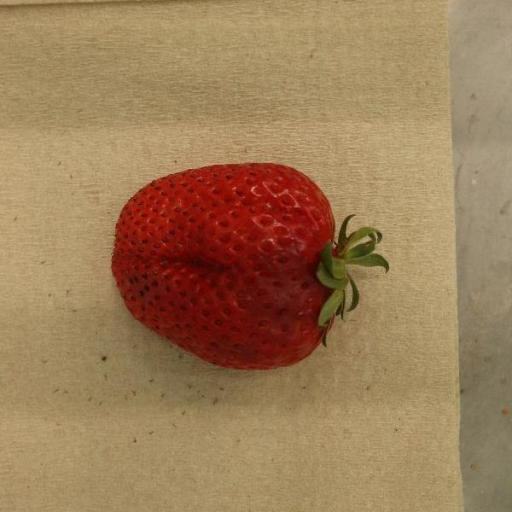Strawberry: (111, 163, 390, 371)
